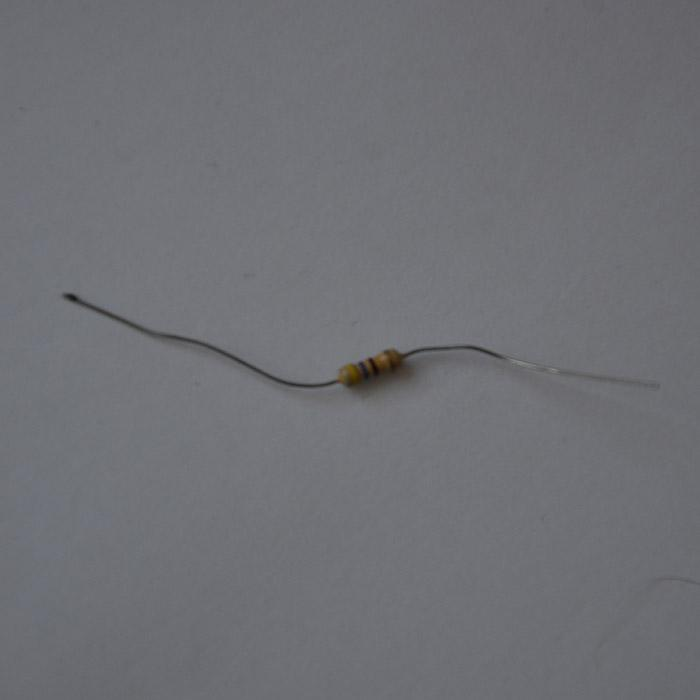resistor: (311, 335, 351, 402)
